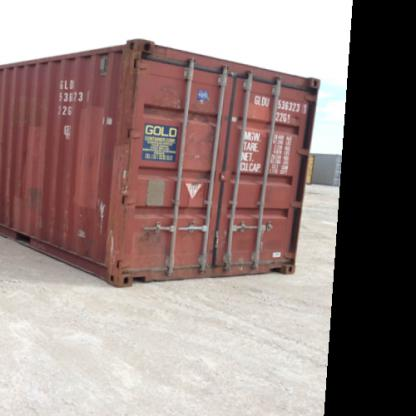Damage: (70, 204, 126, 273), (115, 47, 148, 135), (10, 172, 48, 212), (157, 74, 188, 115), (134, 218, 168, 252), (197, 113, 221, 153), (53, 114, 77, 137), (80, 148, 100, 167), (100, 106, 113, 129)
